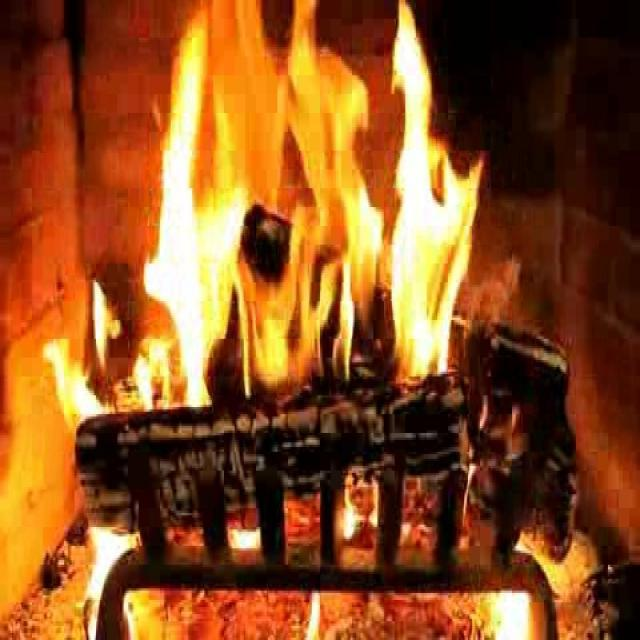Fire: (154, 31, 474, 430)
